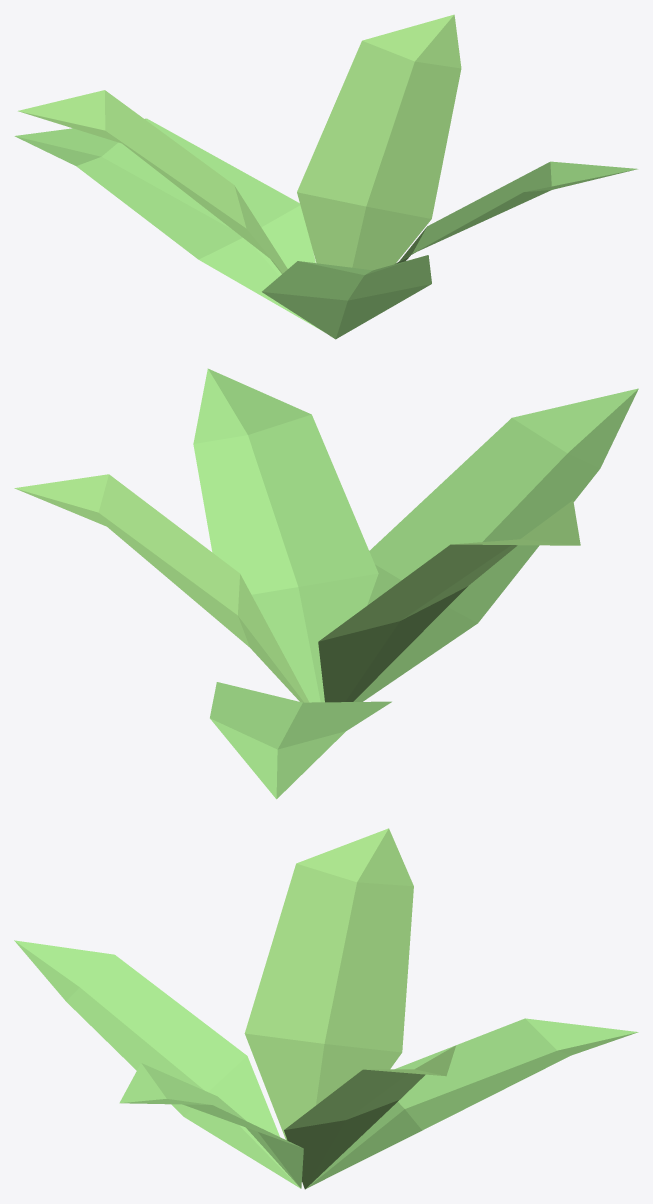
Rendered from Plant_k_OneS_05.fbx.
3 renders of one model, top to bottom at view 1: azimuth 30°, elevation 25°; view 2: azimuth 150°, elevation 25°; view 3: azimuth 270°, elevation 25°, orthographic. The views are drawn at different scales.
Parts seen in each view (by area): view 1: Plant_k_OneS_05; view 2: Plant_k_OneS_05; view 3: Plant_k_OneS_05.
Part boxes in pixels (<box>): Plant_k_OneS_05: <box>14,14,637,339</box>; Plant_k_OneS_05: <box>14,368,638,799</box>; Plant_k_OneS_05: <box>14,828,638,1189</box>.
Bounding box in the file's own units: 37.7 × 19.68 × 46.63.
